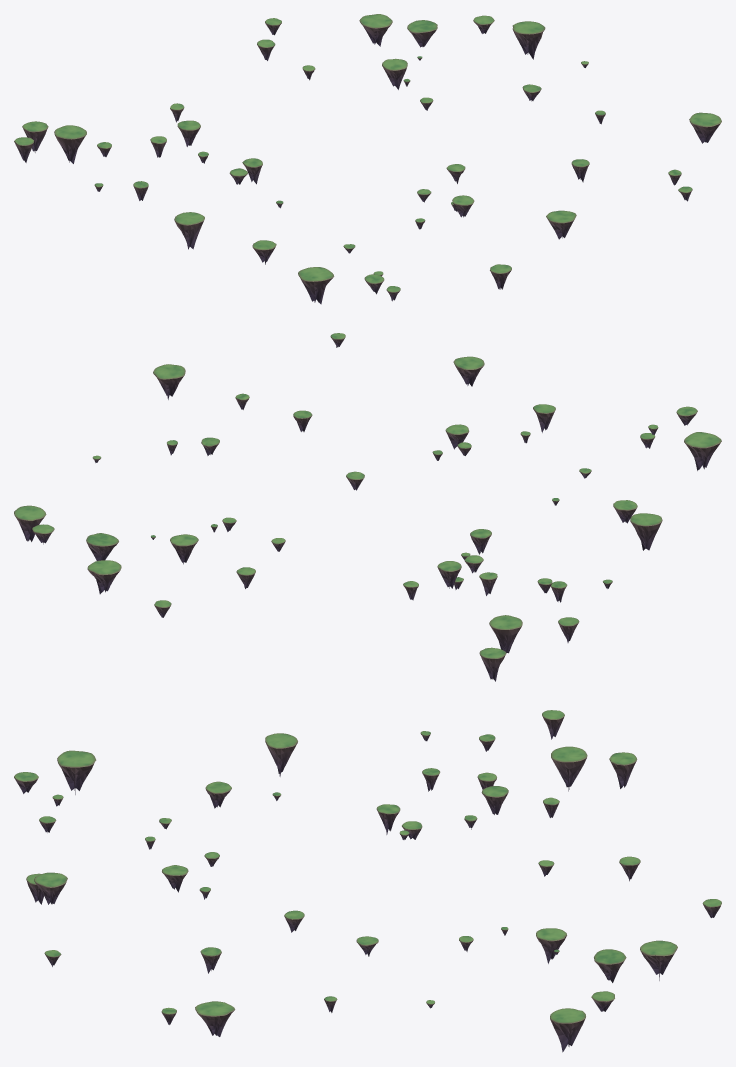
Rendered from FarIslands.fbx.
3 views of the same model, one above another, from view 1: azimuth 30°, elevation 25°; view 2: azimuth 150°, elevation 25°; view 3: azimuth 270°, elevation 25° (orthographic). The views are drawn at different scales.
Visible parts, largest first — view 1: FarIslands; view 2: FarIslands; view 3: FarIslands.
Part boxes in pixels (<box>): FarIslands: <box>14,14,721,304</box>; FarIslands: <box>14,333,721,681</box>; FarIslands: <box>14,710,721,1052</box>.
Bounding box in the file's own units: 1495 × 146 × 1456.
